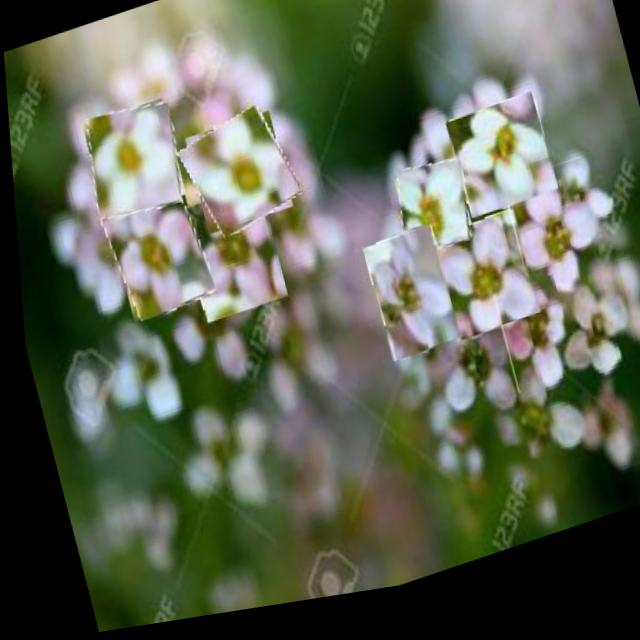Flower: (95, 175, 212, 331), (175, 110, 298, 250), (497, 171, 607, 322), (174, 187, 285, 332), (423, 221, 537, 359), (75, 97, 188, 230), (442, 106, 556, 237), (357, 235, 456, 378), (487, 289, 573, 413), (385, 165, 476, 274)
